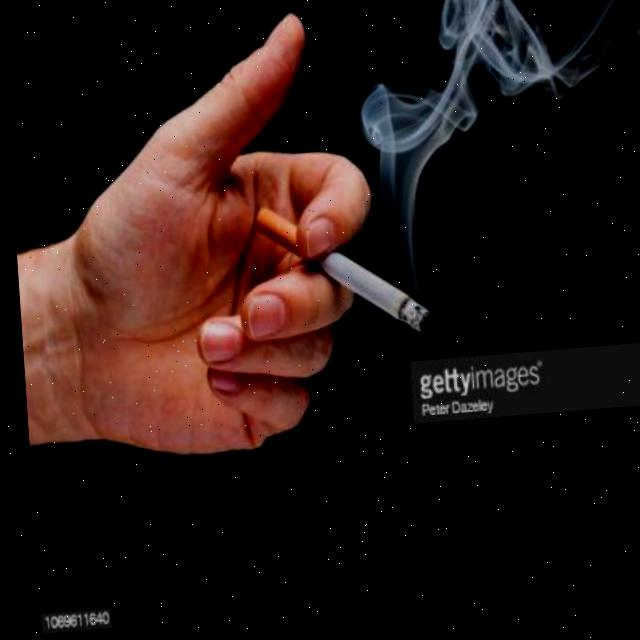cigarette: (249, 197, 426, 348)
